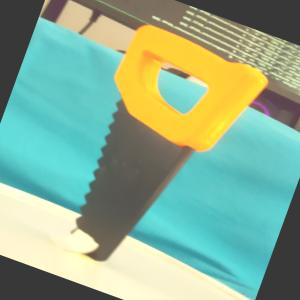serrote: (51, 16, 276, 296)
